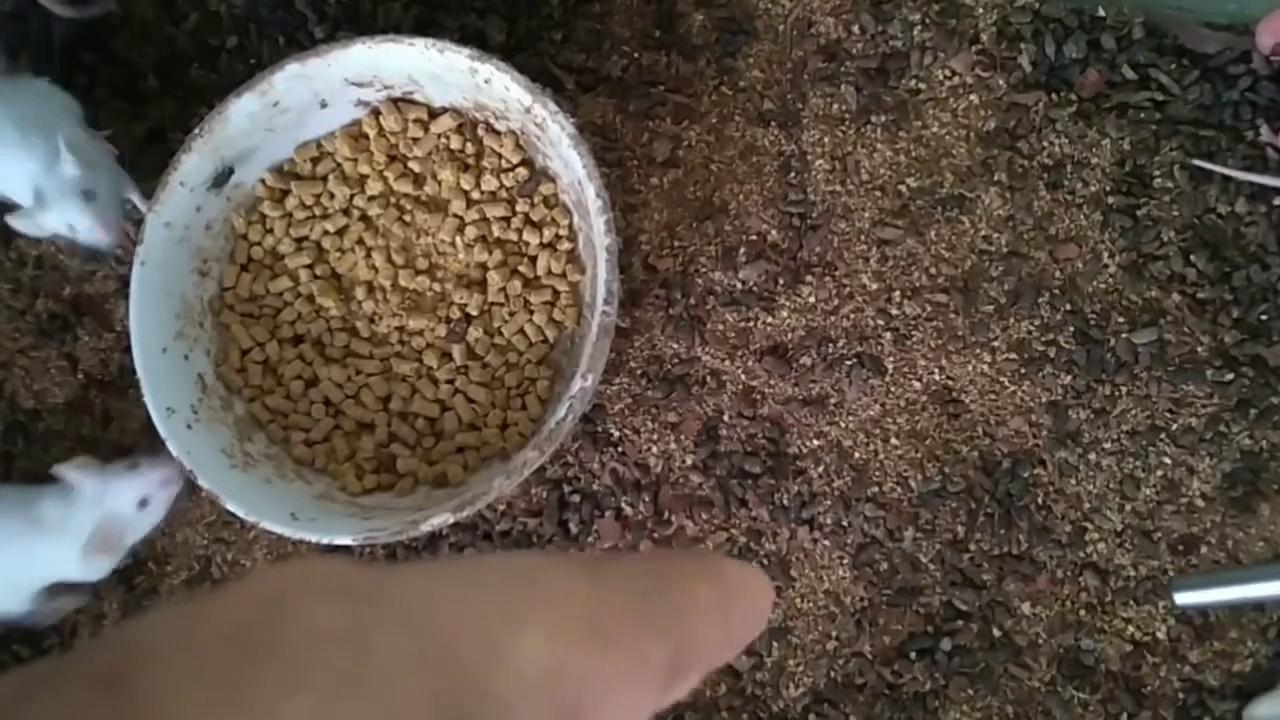rat: (0, 452, 185, 626), (0, 74, 149, 250)
